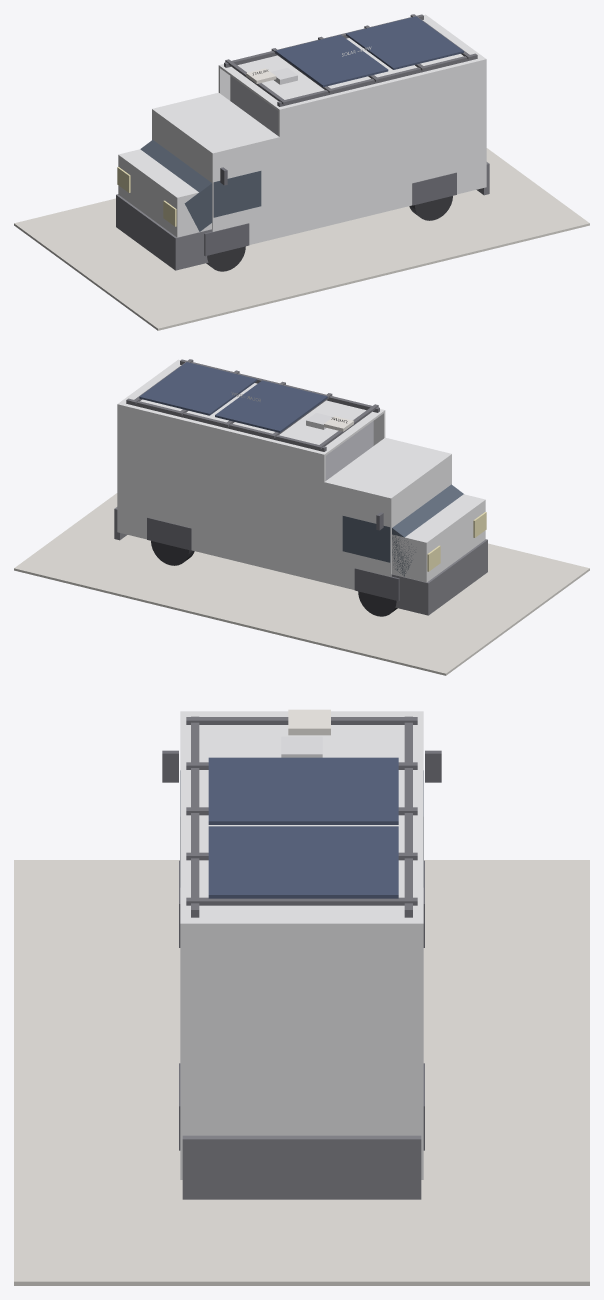
Rendered from van_master_closed.glb.
3 renders of one model, top to bottom at view 1: azimuth 30°, elevation 25°; view 2: azimuth 150°, elevation 25°; view 3: azimuth 270°, elevation 25°, orthographic. The views are drawn at different scales.
Parts seen in each view (by area): view 1: Ground, Body_KerbWall, Cab, Body_Roof, Bonnet, Solar_2, Solar_1, Front_Bumper, Windscreen, Cab_Win_L, Bulkhead_In, Rail_K (+6 smaller); view 2: Ground, Body_RoadWall, Cab, Bonnet, Body_Roof, Solar_2, Solar_1, Front_Bumper, Cab_Win_R, Windscreen, Bulkhead_In, Rail_R (+5 smaller); view 3: Ground, Body_RearWall, Body_Roof, Rear_Bumper, Solar_2, Solar_1, Cross_4, Rail_K, Rail_R, Cross_0, Cab, Body_RoadWall (+2 smaller).
Part boxes in pixels (x1,y1,x2,y2): Ground: (14,148,589,330); Body_KerbWall: (278,59,486,232); Cab: (152,92,279,244); Body_Roof: (218,14,486,111); Bonnet: (118,149,211,237); Solar_2: (346,16,463,69); Solar_1: (275,34,388,87); Front_Bumper: (116,194,212,270); Windscreen: (140,140,212,231); Cab_Win_L: (213,171,261,217); Bulkhead_In: (230,76,278,135); Rail_K: (277,53,477,106); Ground: (14,493,589,675); Body_RoadWall: (117,404,325,582); Cab: (324,437,451,589); Bonnet: (392,494,485,582); Body_Roof: (117,359,385,456); Solar_2: (139,362,257,415); Solar_1: (215,380,327,432); Front_Bumper: (391,539,487,615); Cab_Win_R: (342,516,390,562); Windscreen: (392,484,463,576); Bulkhead_In: (325,421,373,480); Rail_R: (126,398,326,451); Ground: (14,860,589,1285); Body_RearWall: (180,921,423,1179); Body_Roof: (180,721,423,927); Rear_Bumper: (182,1135,421,1199); Solar_2: (208,826,398,898); Solar_1: (208,757,398,824); Cross_4: (186,897,417,905); Rail_K: (191,716,199,917); Rail_R: (404,716,412,917); Cross_0: (186,717,417,724); Cab: (180,711,423,721); Body_RoadWall: (419,866,423,1179).
Size of the model in its own units: 8.4 by 3.02 by 4.85.
